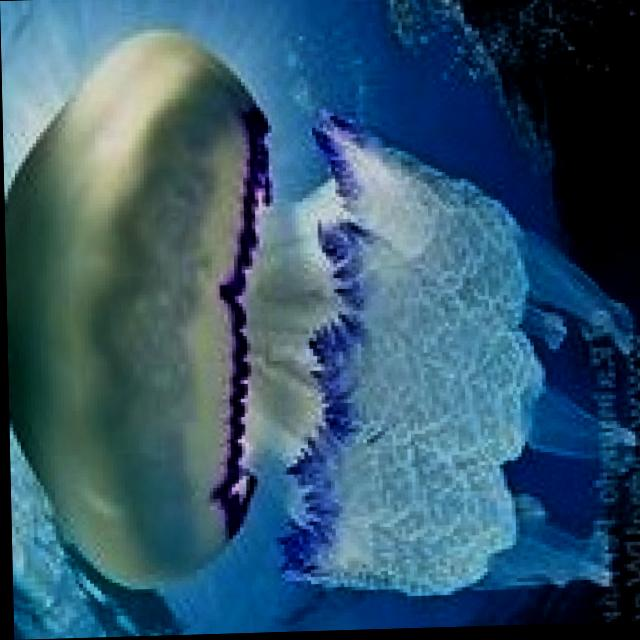Jellyfish: (1, 18, 640, 636)
